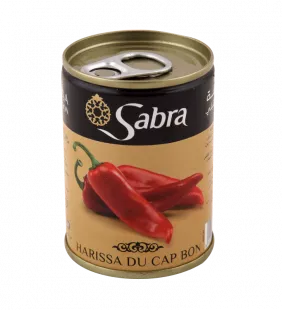SABRA: (52, 20, 220, 284)
